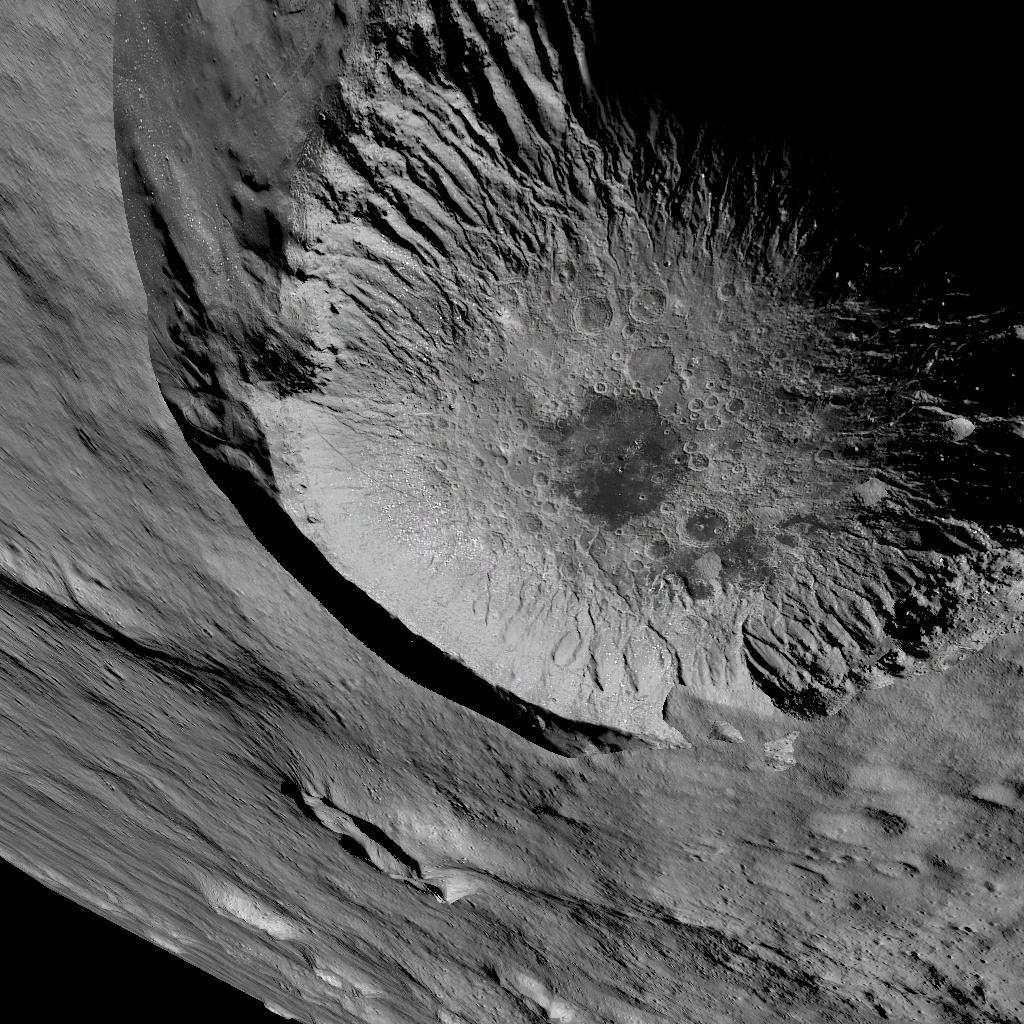Crater: (93, 0, 1024, 767), (261, 778, 467, 912)
Plan surface: (505, 796, 1024, 1024)
